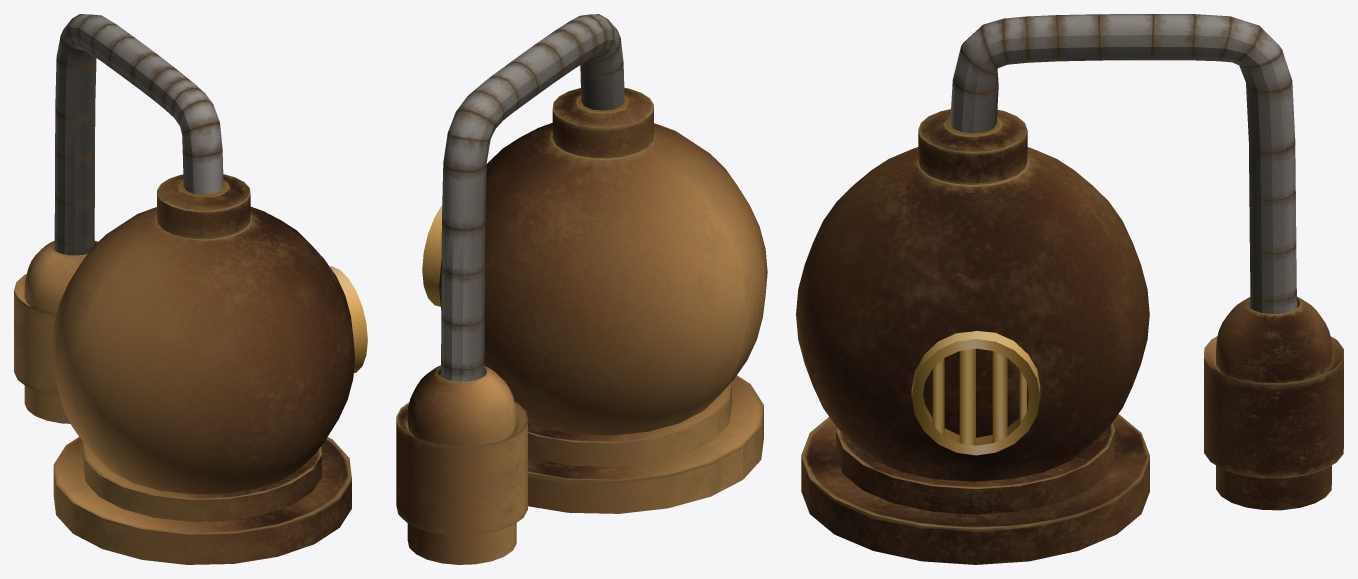
File: Furnace.fbx
The picture shows the model from 3 angles, left to right: view 1: azimuth 30°, elevation 25°; view 2: azimuth 150°, elevation 25°; view 3: azimuth 270°, elevation 25°; orthographic projection. The views are drawn at different scales.
Parts seen in each view (by area): view 1: polySurface1; view 2: polySurface1; view 3: polySurface1.
Part boxes in pixels (x1=…): polySurface1: x1=14, y1=14, x2=367, y2=564; polySurface1: x1=396, y1=14, x2=767, y2=564; polySurface1: x1=796, y1=14, x2=1343, y2=564.
Size of the model in its own units: 3.44 by 4.98 by 5.21.
